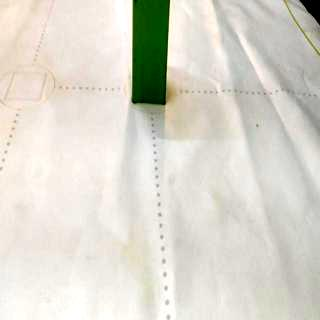greenbox: (132, 0, 172, 105)
